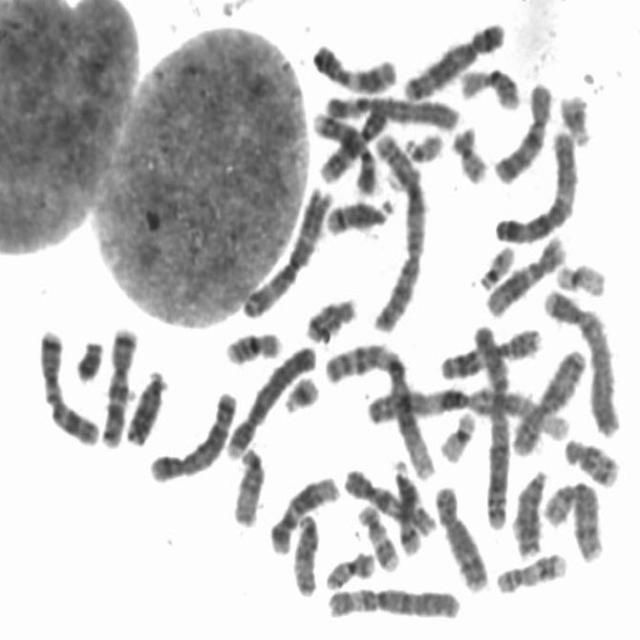A1: (320, 337, 437, 480), (359, 380, 574, 446)
A2: (365, 122, 429, 336), (466, 316, 512, 531)
A3: (238, 180, 334, 320), (490, 123, 582, 245)
B4: (539, 280, 623, 440), (223, 336, 320, 461)
B5: (146, 383, 241, 485), (399, 15, 508, 103)
C10: (338, 462, 440, 537), (490, 76, 556, 186)
C11: (434, 322, 544, 381), (308, 37, 399, 95)
C12: (482, 230, 570, 318), (266, 468, 342, 556)
C6: (318, 86, 461, 132), (322, 578, 464, 622)
C7: (34, 323, 102, 448), (98, 319, 140, 449)
C8: (432, 479, 492, 594), (542, 474, 608, 564)
C9: (307, 103, 379, 197), (316, 101, 395, 179)
D13: (122, 363, 170, 448), (510, 464, 550, 559)
D14: (388, 455, 423, 558), (321, 191, 397, 237)
D15: (228, 441, 266, 529), (288, 508, 322, 598)
E16: (454, 60, 524, 111), (220, 324, 284, 367)
E17: (491, 545, 569, 596), (354, 498, 402, 573)
E18: (561, 432, 623, 488), (301, 290, 360, 344)
F19: (434, 405, 480, 464), (551, 256, 609, 297)
F20: (448, 119, 491, 185), (322, 545, 377, 591)
G21: (555, 87, 594, 147), (278, 368, 322, 416)
G22: (474, 238, 518, 292), (399, 126, 446, 164)
X: (508, 343, 588, 458)
Y: (71, 332, 106, 384)
